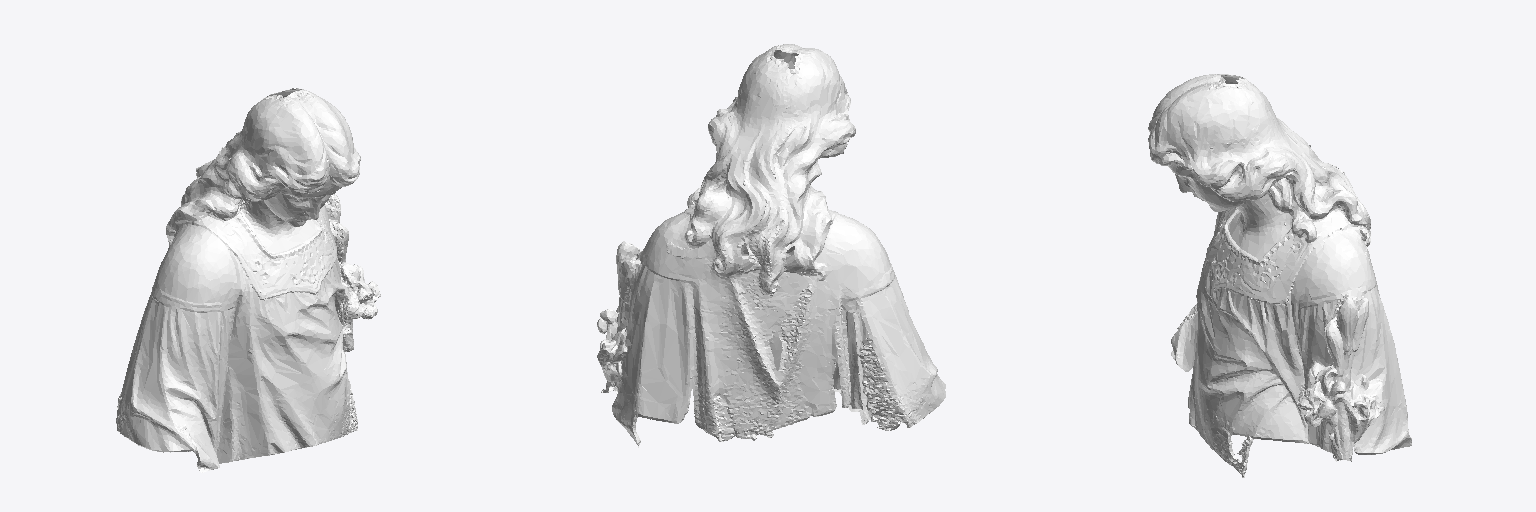
File: statue-decimated.obj
3 renders of one model, left to right at view 1: azimuth 30°, elevation 25°; view 2: azimuth 150°, elevation 25°; view 3: azimuth 270°, elevation 25°, orthographic.
Parts seen in each view (by area): view 1: statue.50k.tex4096; view 2: statue.50k.tex4096; view 3: statue.50k.tex4096.
Part boxes in pixels (bbox=[...]): statue.50k.tex4096: bbox=[116, 88, 380, 472]; statue.50k.tex4096: bbox=[597, 44, 945, 447]; statue.50k.tex4096: bbox=[1148, 74, 1411, 477].
Bounding box in the file's own units: 1.63 × 1.94 × 1.28.